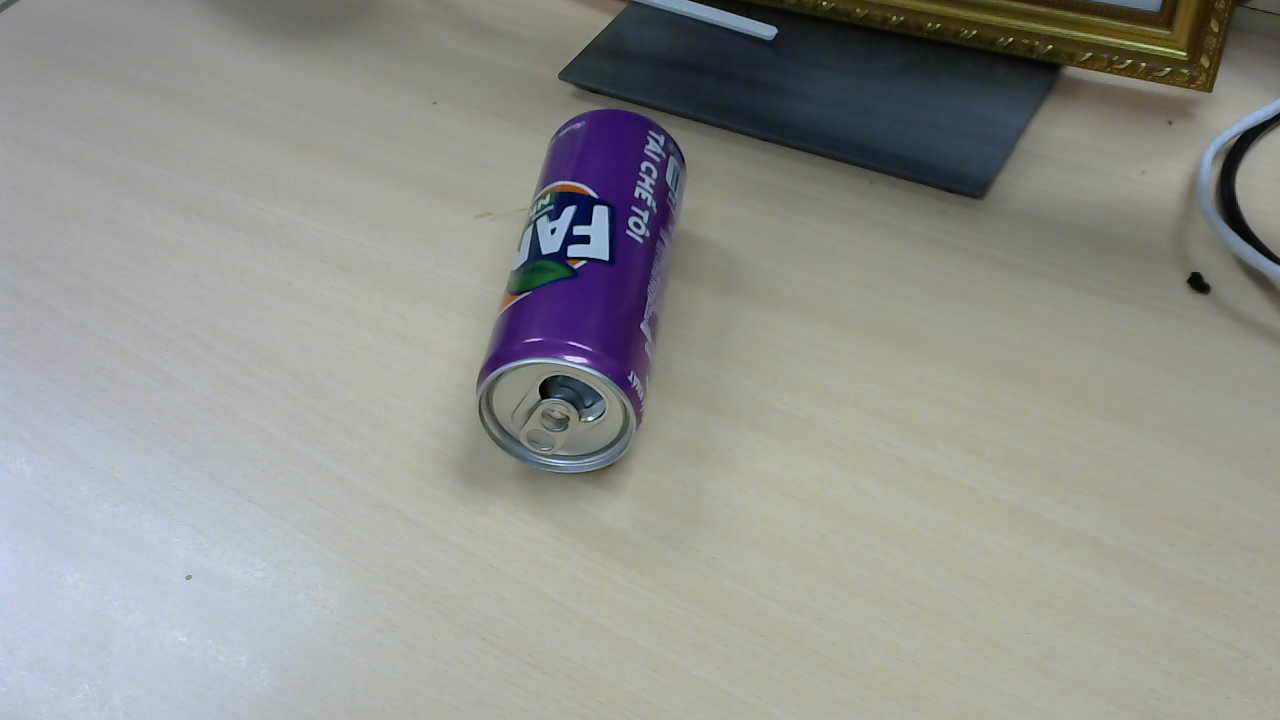Fanta: (479, 113, 696, 480)
